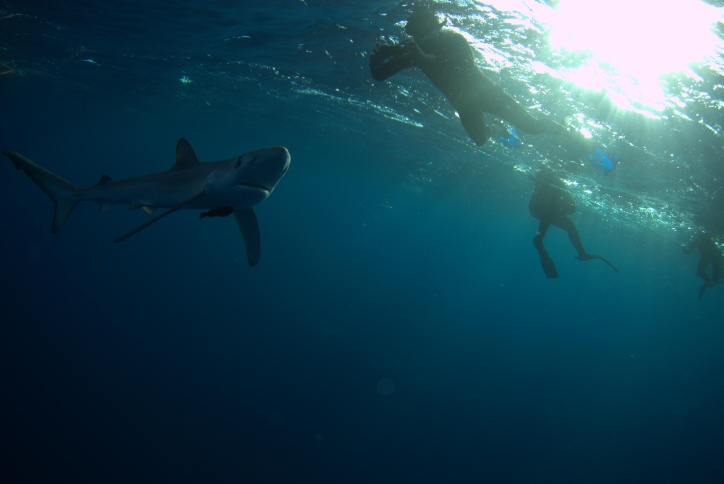Azul: (1, 116, 319, 273)
